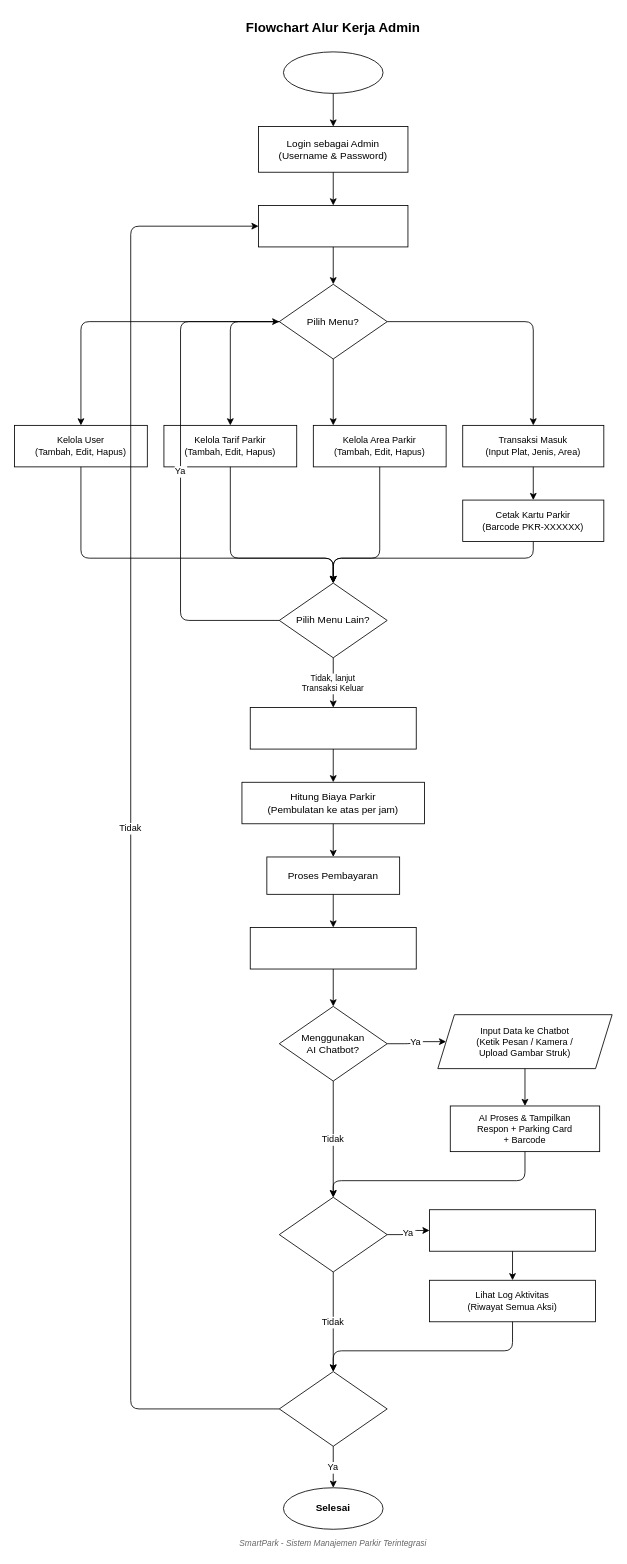
Image size: 627x1564. Some labels were removed from this diagram. Here are the shapes that lost their labels. From the top down, the centre of each, then its label:
At pixel 333 72: "Mulai".
At pixel 333 226: "Masuk Dashboard Admin".
At pixel 332 728: "Transaksi Keluar (Scan Barcode / Kode PKR)".
At pixel 332 948: "Cetak Struk Parkir (Total Biaya + Barcode)".
At pixel 332 1234: "Lihat Rekap & Log Aktivitas?".
At pixel 512 1230: "Lihat Rekap Transaksi (Grafik, Tabel, Export CSV)".
At pixel 332 1408: "Logout?".
